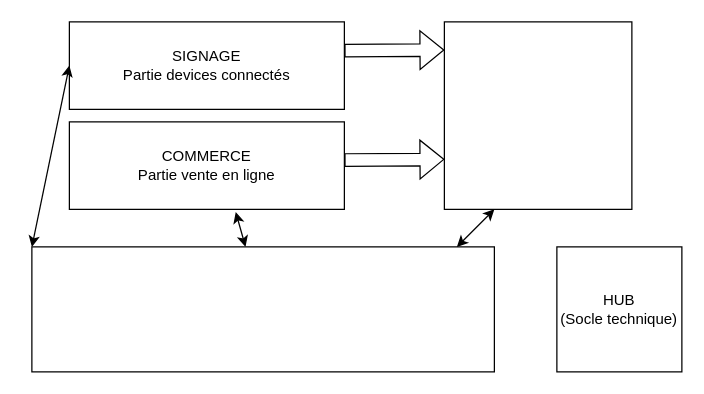
The diagram is 704 pixels wide and 394 high, and some of its shapes have lost their labels. Here are the shapes that lost their labels. From the top down, the centre of each, then its label:
At point 537,115: "ORCHESTRATOR (Gestionnaire de commande, OMS)".
At point 262,309: "OFFICE (Interface d'administration et de gestion)".
